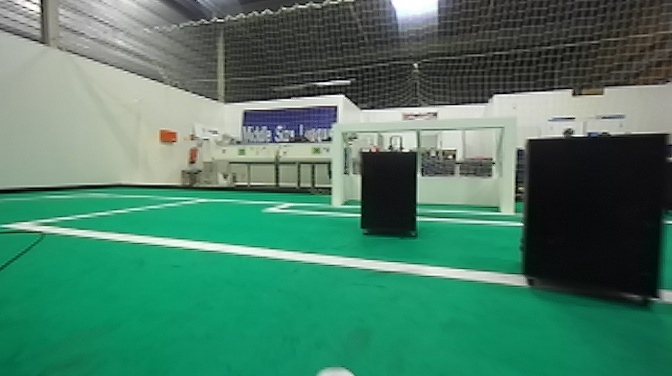goalpost: (498, 115, 518, 218), (327, 120, 345, 210)
